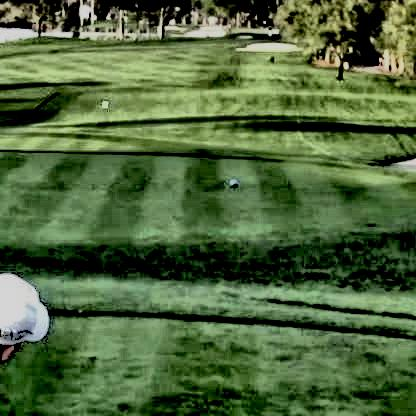golfball: (98, 98, 107, 107)
